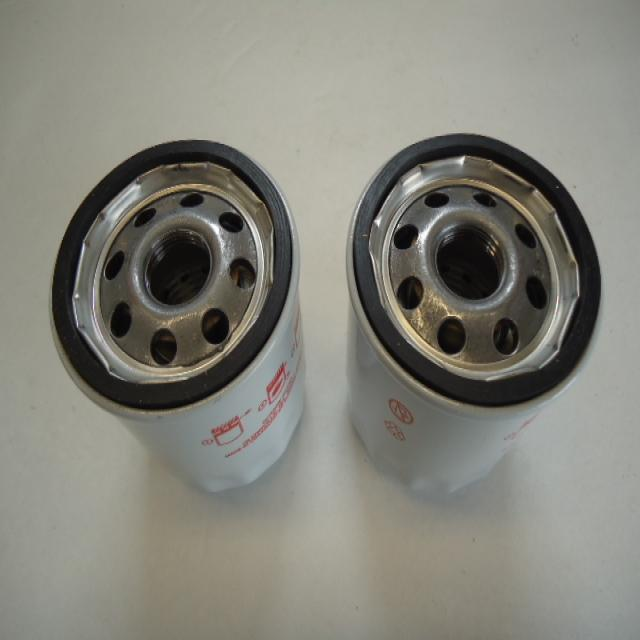oil_filter: (341, 124, 607, 503), (47, 132, 318, 502)
